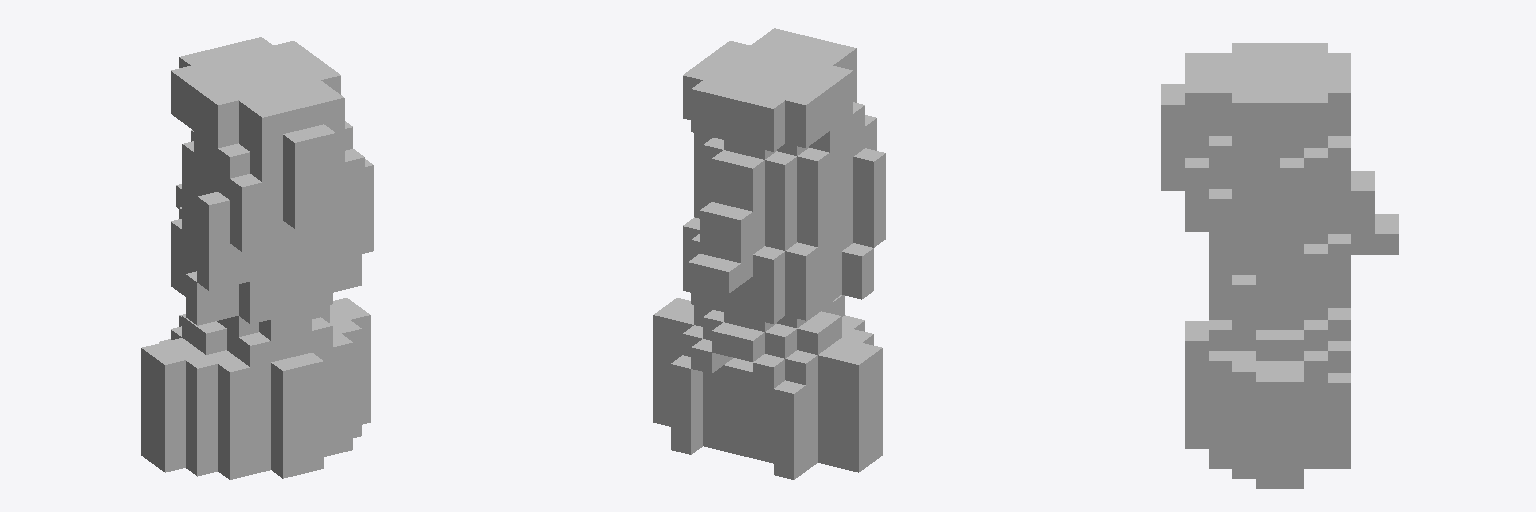
File: easterstatue.obj
3 renders of one model, left to right at view 1: azimuth 30°, elevation 25°; view 2: azimuth 150°, elevation 25°; view 3: azimuth 270°, elevation 25°, orthographic.
Size of the model in its own units: 10 by 17 by 10.